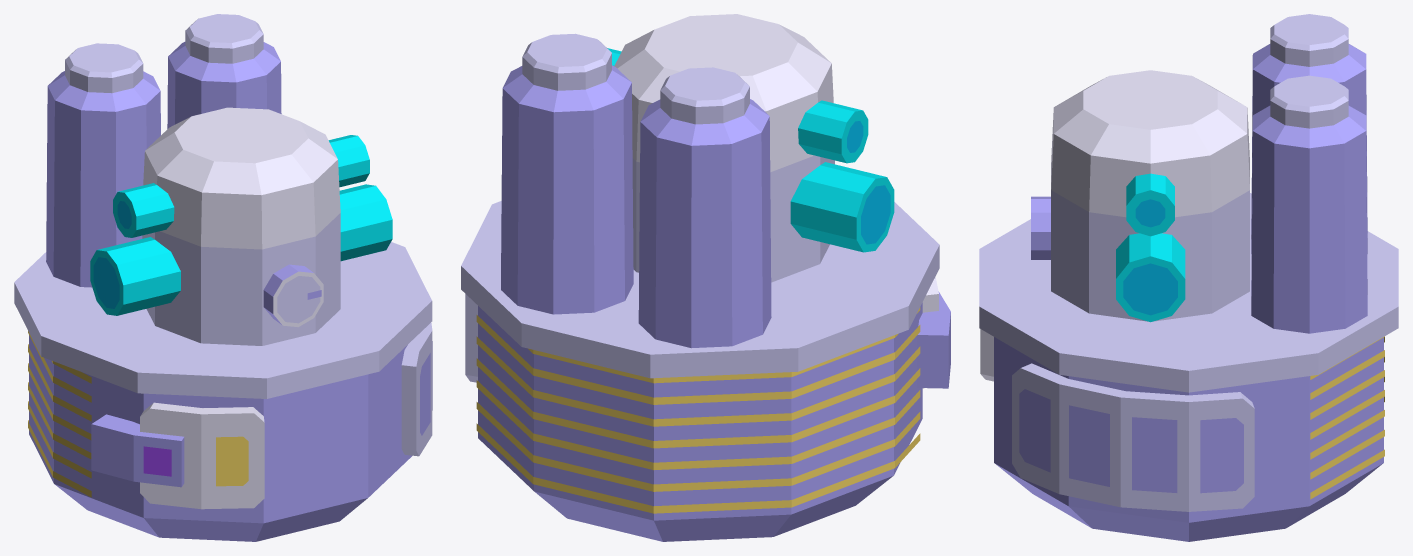
The model's file is Building_018_a.fbx.
The picture shows the model from 3 angles, left to right: view 1: azimuth 30°, elevation 25°; view 2: azimuth 150°, elevation 25°; view 3: azimuth 270°, elevation 25°; orthographic projection. The views are drawn at different scales.
Visible parts, largest first — view 1: Building_018_a; view 2: Building_018_a; view 3: Building_018_a.
Part boxes in pixels (bbox=[...]): Building_018_a: bbox=[14, 14, 432, 541]; Building_018_a: bbox=[461, 14, 950, 541]; Building_018_a: bbox=[979, 14, 1398, 541].
Size of the model in its own units: 7.47 by 7.69 by 7.1.
